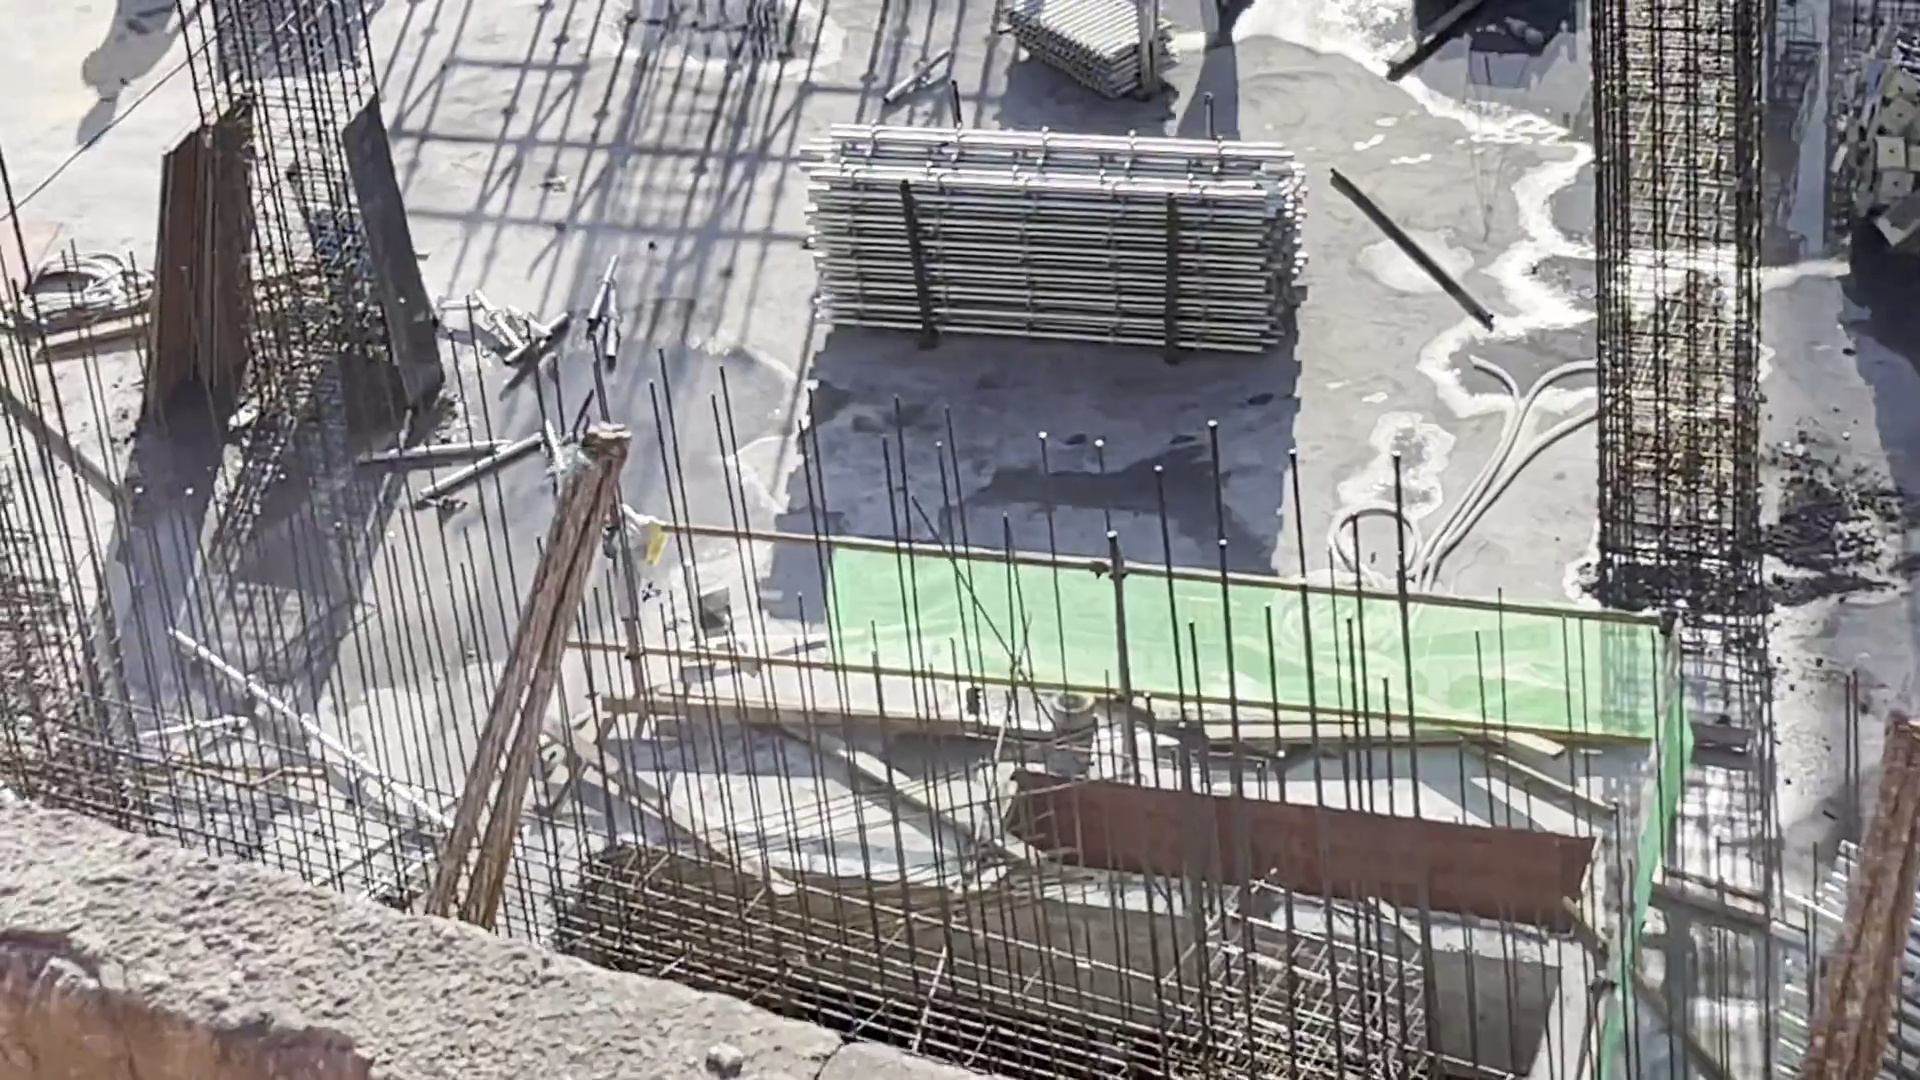scaffold: (793, 115, 1324, 363)
